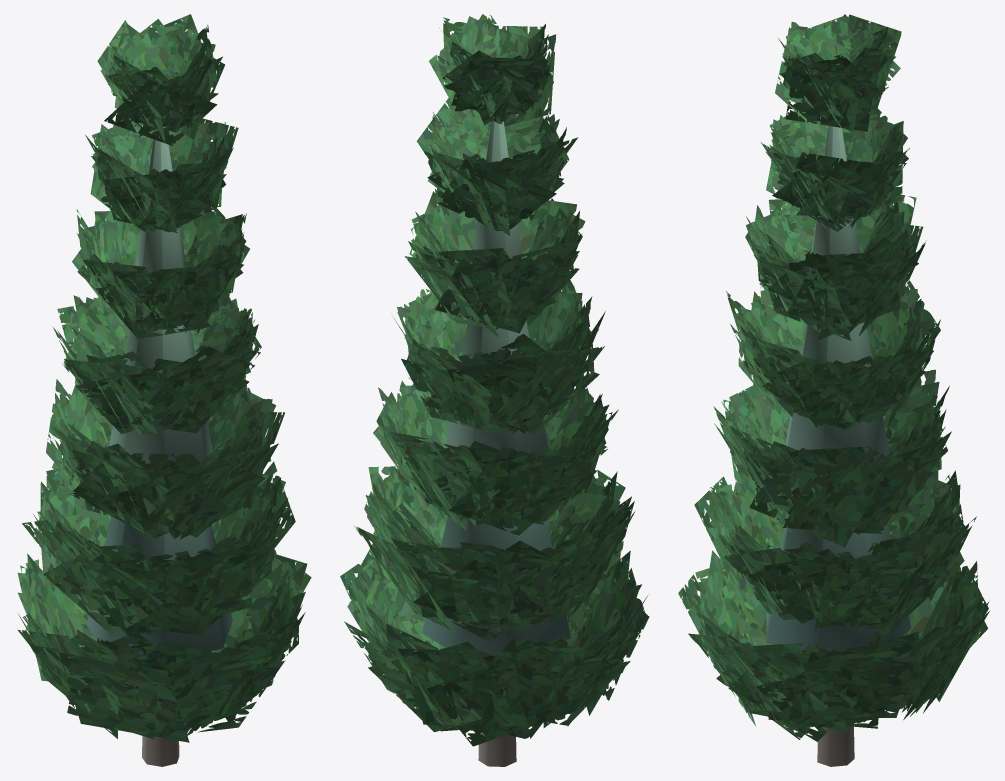
The model's file is veg-tree-conifer.glb.
3 renders of one model, left to right at view 1: azimuth 30°, elevation 25°; view 2: azimuth 150°, elevation 25°; view 3: azimuth 270°, elevation 25°, orthographic.
Parts seen in each view (by area): view 1: leaf-cards, canopy, trunk; view 2: leaf-cards, canopy, trunk; view 3: leaf-cards, canopy, trunk.
Part boxes in pixels (x1=…): leaf-cards: x1=17, y1=14, x2=311, y2=742; canopy: x1=86, y1=136, x2=232, y2=654; trunk: x1=142, y1=126, x2=179, y2=766; leaf-cards: x1=340, y1=14, x2=649, y2=746; canopy: x1=422, y1=120, x2=570, y2=656; trunk: x1=478, y1=732, x2=516, y2=766; leaf-cards: x1=678, y1=14, x2=989, y2=741; canopy: x1=766, y1=126, x2=911, y2=651; trunk: x1=817, y1=726, x2=854, y2=766.
Size of the model in its own units: 3.46 by 9.11 by 3.52.
3 materials, 1 textured.
